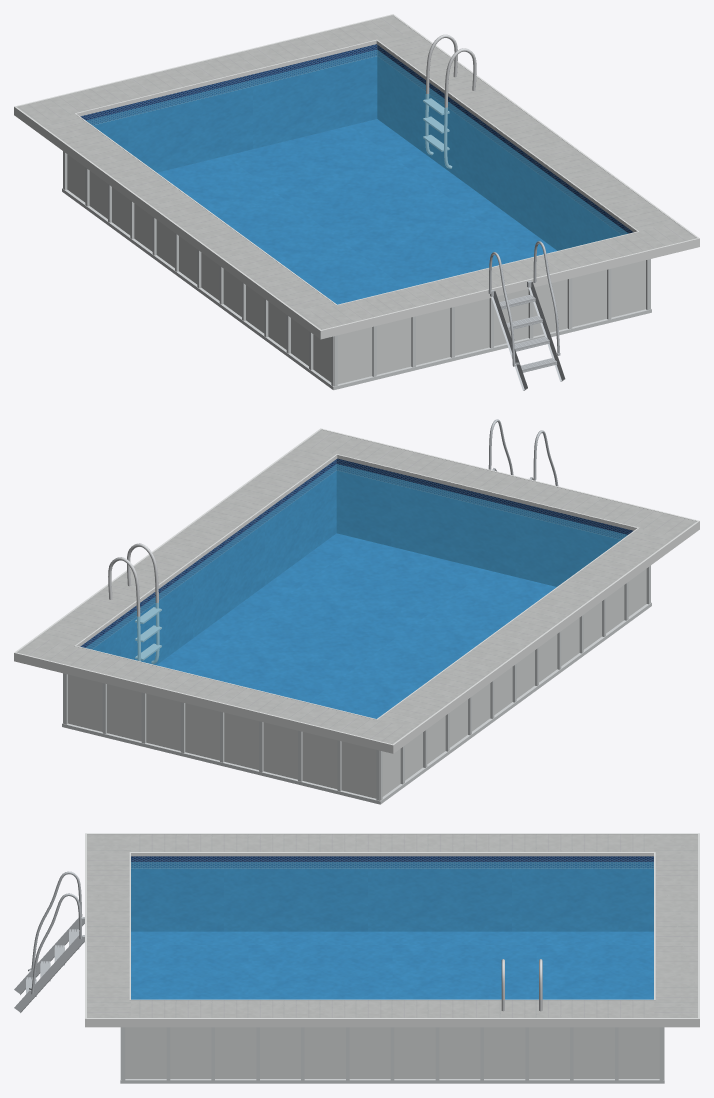
The model's file is kayak-pool-16x24-white-walk-ag-nofence.c06aa357c3.glb.
3 renders of one model, top to bottom at view 1: azimuth 30°, elevation 25°; view 2: azimuth 150°, elevation 25°; view 3: azimuth 270°, elevation 25°, orthographic.
Parts seen in each view (by area): view 1: water, liner_floor, liner_wall, deck, wall, fascia, upright, ladder, steel; view 2: water, liner_floor, liner_wall, deck, wall, fascia, upright, steel, ladder; view 3: water, liner_wall, liner_floor, deck, wall, fascia, upright, ladder, steel.
Part boxes in pixels (x1,y1,x2,y2): water: [86, 49, 628, 304]; liner_floor: [157, 119, 556, 304]; liner_wall: [80, 44, 633, 250]; deck: [17, 15, 696, 329]; wall: [67, 154, 645, 384]; fascia: [14, 14, 699, 339]; upright: [62, 151, 651, 390]; ladder: [488, 241, 565, 390]; steel: [423, 34, 476, 168]; water: [85, 464, 627, 718]; liner_floor: [157, 533, 556, 718]; liner_wall: [80, 458, 633, 664]; deck: [17, 429, 696, 744]; wall: [68, 569, 646, 798]; fascia: [14, 428, 699, 753]; upright: [62, 565, 651, 804]; steel: [108, 543, 161, 663]; ladder: [488, 419, 558, 485]; water: [131, 862, 653, 999]; liner_wall: [131, 856, 653, 931]; liner_floor: [131, 931, 653, 999]; deck: [87, 834, 697, 1017]; wall: [125, 1027, 659, 1078]; fascia: [85, 833, 699, 1027]; upright: [120, 1027, 664, 1083]; ladder: [14, 871, 84, 1012]; steel: [501, 959, 542, 1011].
Size of the model in its own units: 6.1 by 1.9 by 9.52.
Materials: 10 (3 with a texture image).
